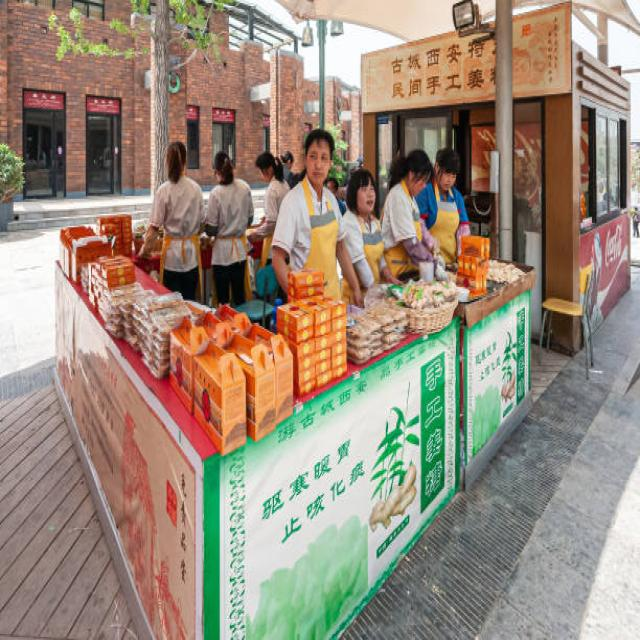Emperan: (39, 135, 552, 640)
